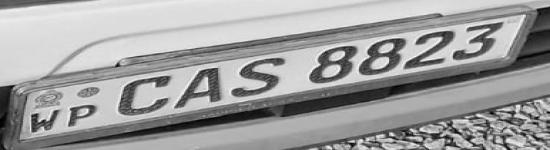2: (402, 30, 454, 68)
3: (453, 20, 506, 62)
8: (303, 44, 361, 86), (358, 36, 407, 76)
A: (174, 66, 228, 109)
C: (114, 73, 174, 119)
P: (65, 103, 100, 130)
S: (228, 56, 290, 98)
W: (28, 106, 62, 135)
